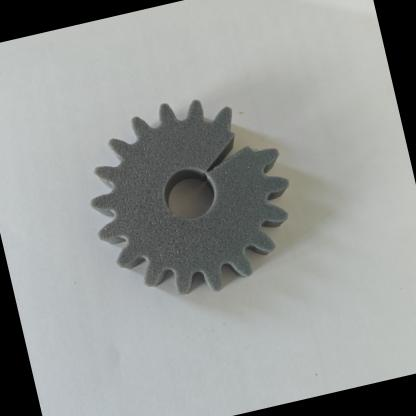defect: (170, 98, 288, 198)
gear: (50, 71, 342, 351)
